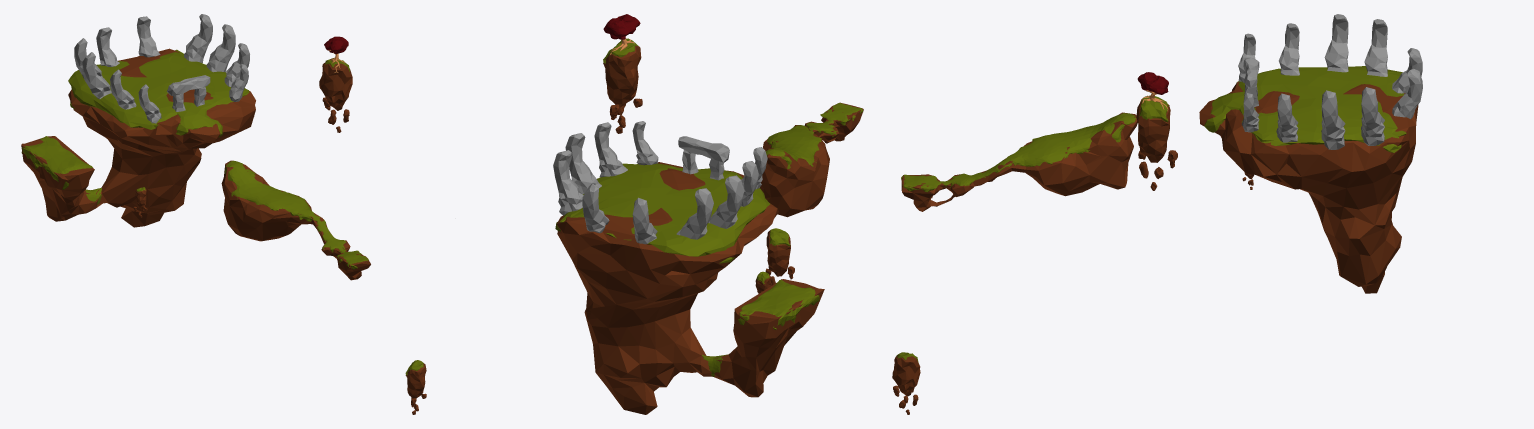
The model's file is Due_Isola3.fbx.
3 renders of one model, left to right at view 1: azimuth 30°, elevation 25°; view 2: azimuth 150°, elevation 25°; view 3: azimuth 270°, elevation 25°, orthographic. The views are drawn at different scales.
Visible parts, largest first — view 1: Plane.037, Plane.031, Plane.036, Plane.030, Sphere.156, Sphere.173, Sphere.174, Sphere.176, Sphere.022, Sphere.180, Sphere.177, Sphere.149 (+5 smaller); view 2: Plane.037, Plane.031, Plane.036, Plane.030, Sphere.156, Sphere.174, Sphere.176, Sphere.173, Sphere.175, Sphere.172, Sphere.022, Sphere.149 (+6 smaller); view 3: Plane.037, Plane.031, Plane.036, Sphere.156, Sphere.173, Sphere.174, Sphere.176, Sphere.175, Sphere.177, Sphere.042, Sphere.022, Sphere.172 (+1 smaller).
Boxes of the visible parts, x1,y1,x2,y2 form: Plane.037: (21, 48, 370, 280); Plane.031: (68, 49, 249, 137); Plane.036: (224, 160, 368, 269); Plane.030: (21, 136, 92, 189); Sphere.156: (319, 62, 352, 110); Sphere.173: (206, 24, 235, 72); Sphere.174: (184, 14, 212, 62); Sphere.176: (82, 52, 111, 99); Sphere.022: (137, 16, 160, 57); Sphere.180: (96, 27, 119, 66); Sphere.177: (110, 69, 136, 109); Sphere.149: (167, 75, 210, 95); Plane.037: (556, 102, 863, 414); Plane.031: (555, 163, 770, 263); Plane.036: (765, 103, 863, 170); Plane.030: (738, 279, 819, 329); Sphere.156: (603, 46, 641, 107); Sphere.174: (553, 150, 583, 215); Sphere.176: (708, 175, 744, 228); Sphere.173: (565, 133, 601, 194); Sphere.175: (676, 188, 713, 239); Sphere.172: (594, 122, 627, 177); Sphere.022: (582, 183, 609, 233); Sphere.149: (678, 136, 729, 162); Plane.037: (901, 82, 1418, 293); Plane.031: (1204, 66, 1406, 152); Plane.036: (901, 113, 1136, 192); Sphere.156: (1136, 100, 1170, 162); Sphere.173: (1321, 90, 1345, 149); Sphere.174: (1361, 87, 1384, 145); Sphere.176: (1324, 14, 1348, 72); Sphere.175: (1364, 19, 1387, 76); Sphere.177: (1278, 23, 1299, 75); Sphere.042: (892, 356, 920, 396); Sphere.022: (1392, 68, 1422, 119); Sphere.172: (1276, 93, 1298, 142).
Bounding box in the file's own units: 1178 × 1149 × 1838.
